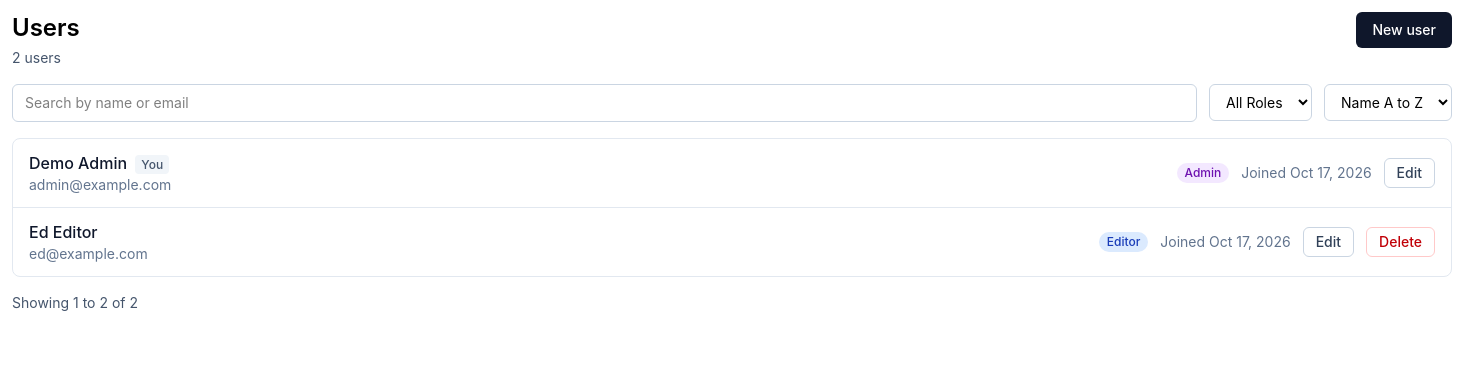
UsersView › deletes after confirmation and reloads the list
Click the button with aria-label "Delete Ed Editor". click: (1401, 242)
box: [1366,227,1435,257]
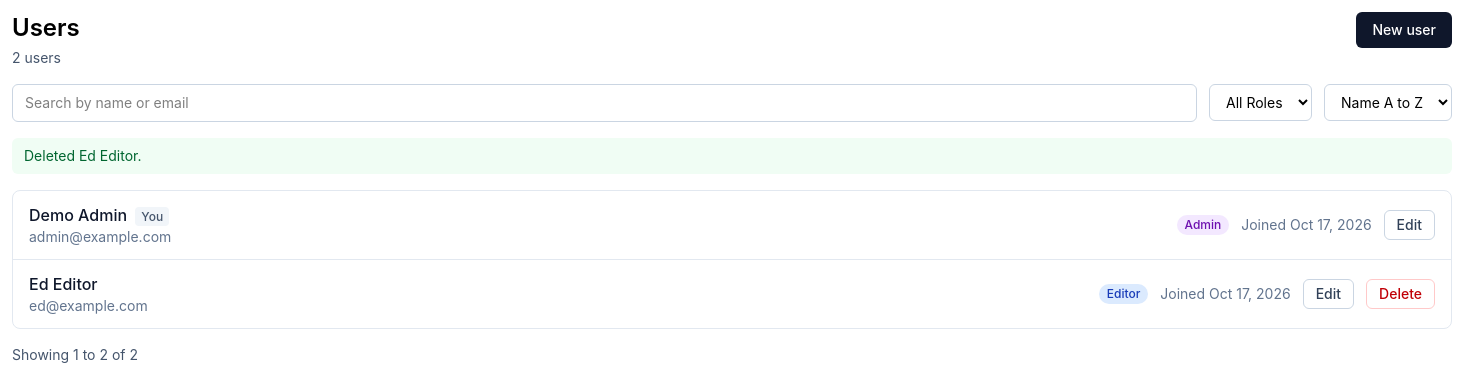
expect the text "Deleted Ed Editor" is shown: met, box [24,147,142,164]
